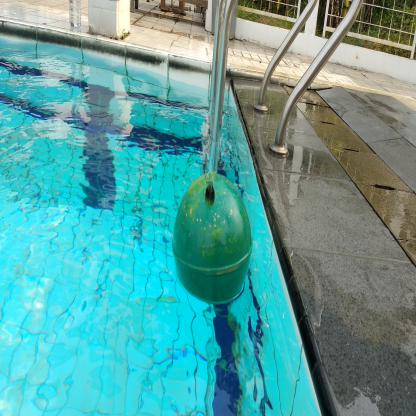green_buoy: (169, 172, 252, 309)
